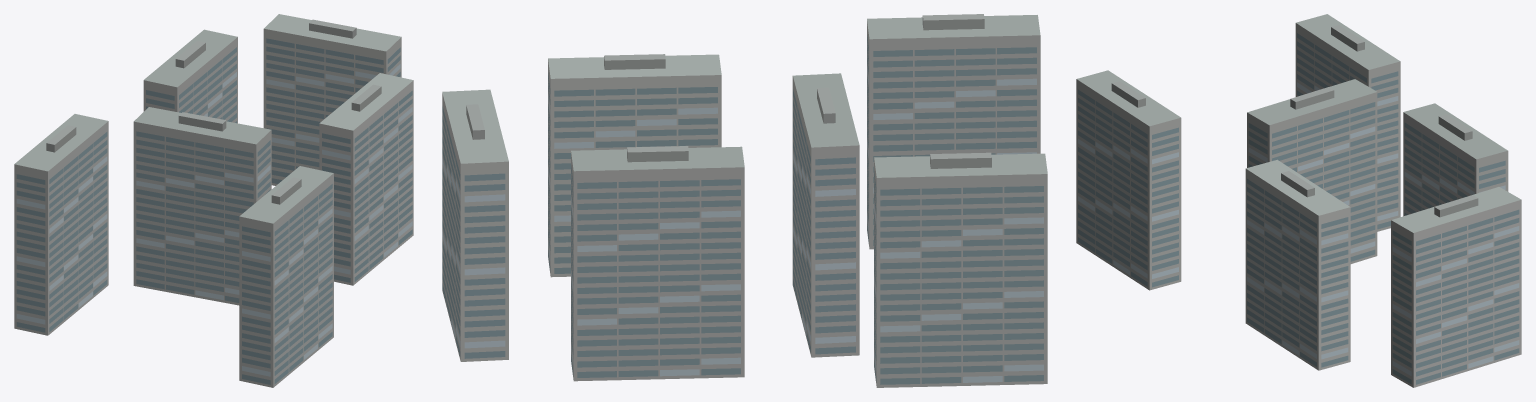
Rendered from apt-a13671206.glb.
3 renders of one model, left to right at view 1: azimuth 30°, elevation 25°; view 2: azimuth 150°, elevation 25°; view 3: azimuth 270°, elevation 25°, orthographic. The views are drawn at different scales.
Parts seen in each view (by area): view 1: apt-a13671206; view 2: apt-a13671206; view 3: apt-a13671206.
Boxes of the visible parts, <box> form: apt-a13671206: <box>14,14,413,387</box>; apt-a13671206: <box>442,14,1047,387</box>; apt-a13671206: <box>1076,14,1521,387</box>.
Bounding box in the file's own units: 142 × 54 × 127.
